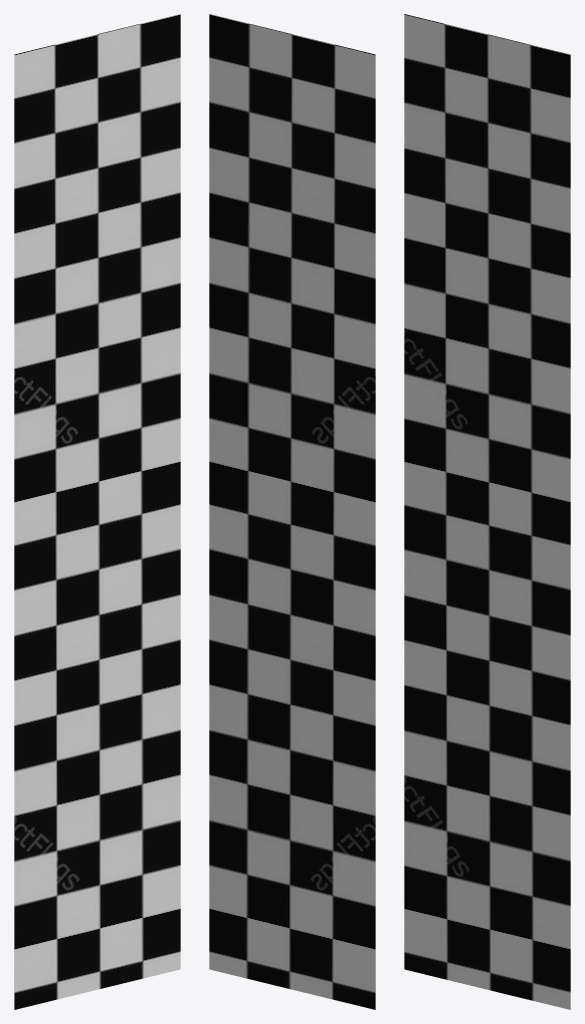
Rendered from finish_line.obj.
The picture shows the model from 3 angles, left to right: view 1: azimuth 30°, elevation 25°; view 2: azimuth 150°, elevation 25°; view 3: azimuth 330°, elevation 25°; orthographic projection.
Parts seen in each view (by area): view 1: Finish_Plane.004; view 2: Finish_Plane.004; view 3: Finish_Plane.004.
Part boxes in pixels (<box>): Finish_Plane.004: <box>14,14,180,1009</box>; Finish_Plane.004: <box>209,14,375,1009</box>; Finish_Plane.004: <box>404,14,570,1009</box>.
Bounding box in the file's own units: 0.9836 × 5.41 × 0.
1 material, 1 textured.
